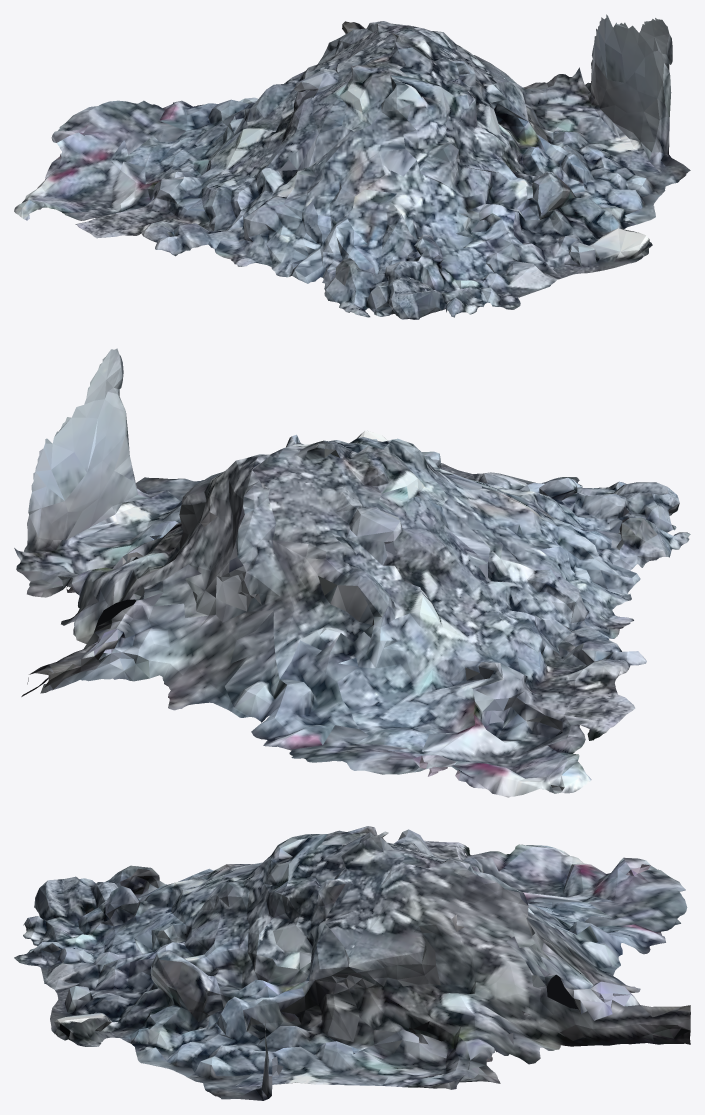
The model's file is rubble_concrete.glb.
3 renders of one model, top to bottom at view 1: azimuth 30°, elevation 25°; view 2: azimuth 150°, elevation 25°; view 3: azimuth 270°, elevation 25°, orthographic. The views are drawn at different scales.
Parts seen in each view (by area): view 1: cement debris_0; view 2: cement debris_0; view 3: cement debris_0.
Boxes of the visible parts, x1,y1,x2,y2 form: cement debris_0: (14,14,690,319); cement debris_0: (14,348,690,797); cement debris_0: (14,826,690,1100).
Size of the model in its own units: 4.88 by 1.48 by 5.
Materials: 1 (1 with a texture image).
